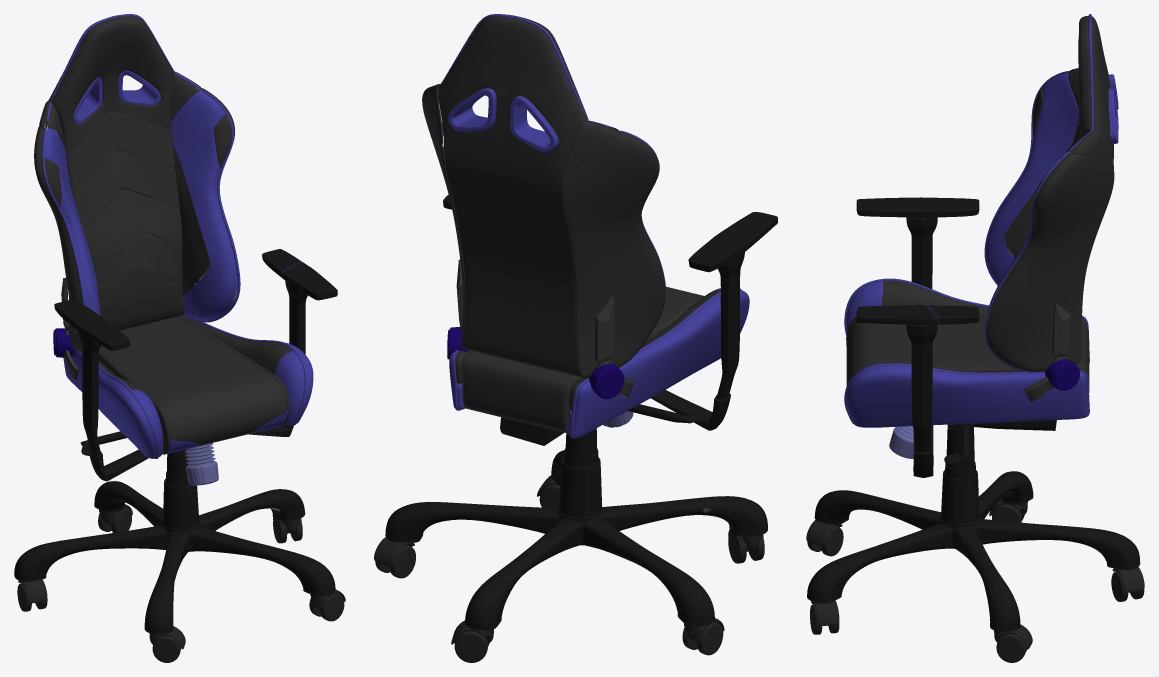
The model's file is gaming-chair.glb.
3 renders of one model, left to right at view 1: azimuth 30°, elevation 25°; view 2: azimuth 150°, elevation 25°; view 3: azimuth 270°, elevation 25°, orthographic. The views are drawn at different scales.
Parts seen in each view (by area): view 1: Group29, _Group9, Group19, Group31, ZBrush_defualt_group, _Group5, Group17, Group12, Group33, Group11, Group21, Group3 (+11 smaller); view 2: Group29, _Group9, Group11, Group19, Group17, ZBrush_defualt_group, _Group10, Group7, Group5, Group25, Group30, _Group8 (+3 smaller); view 3: _Group9, Group30, Group2, Group19, _Group5, Group12, ZBrush_defualt_group, Group29, _Group10, Group35, Group14, Group23 (+4 smaller).
Part boxes in pixels (x1,y1,x2,y2): Group29: [48, 16, 183, 330]; _Group9: [14, 443, 345, 662]; Group19: [98, 316, 289, 454]; Group31: [170, 91, 238, 321]; ZBrush_defualt_group: [54, 300, 148, 481]; _Group5: [248, 249, 337, 436]; Group17: [63, 350, 155, 458]; Group12: [44, 128, 100, 315]; Group33: [173, 146, 209, 295]; Group11: [34, 126, 82, 351]; Group21: [179, 315, 292, 374]; Group3: [257, 341, 304, 424]; Group29: [438, 14, 588, 377]; _Group9: [374, 411, 767, 662]; Group11: [561, 131, 665, 377]; Group19: [462, 286, 704, 433]; Group17: [573, 289, 749, 438]; ZBrush_defualt_group: [651, 212, 777, 430]; _Group10: [447, 259, 634, 399]; Group7: [510, 95, 558, 152]; Group5: [563, 121, 619, 177]; Group25: [447, 88, 496, 131]; Group30: [422, 87, 465, 347]; _Group8: [628, 404, 708, 423]; _Group9: [806, 420, 1144, 662]; Group30: [986, 152, 1114, 371]; Group2: [846, 365, 1088, 427]; Group19: [846, 313, 1089, 392]; _Group5: [856, 305, 979, 477]; Group12: [985, 73, 1079, 285]; ZBrush_defualt_group: [856, 197, 979, 288]; Group29: [1070, 15, 1113, 162]; _Group10: [1024, 303, 1079, 402]; Group35: [881, 281, 1086, 325]; Group14: [1004, 144, 1072, 258]; Group23: [1071, 130, 1113, 170].
Bounding box in the file's own units: 317 × 575 × 310.
1 material, 1 textured.
